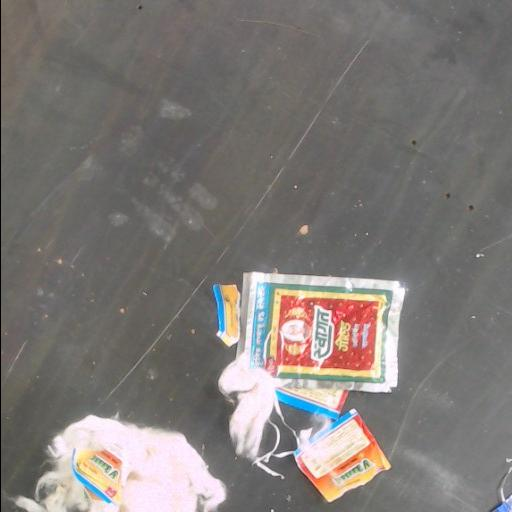conveyor belt: (1, 0, 512, 511)
cotton: (17, 415, 224, 511), (218, 352, 281, 459)
packet: (212, 272, 404, 501), (72, 448, 128, 511)
